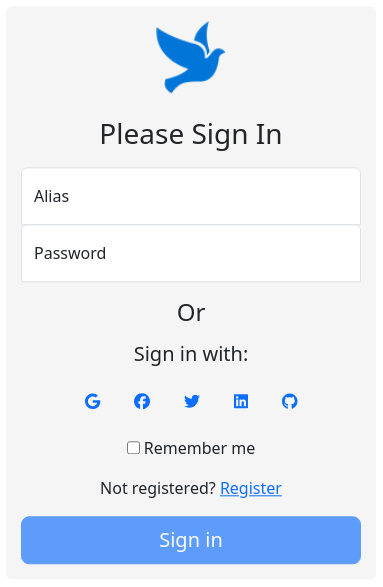
Test: Login Component › enables the sign in button if both alias and password fileds have text
In the field labelled "Alias": [191, 196] box x1=21 y1=167 x2=361 y2=225, type "a"
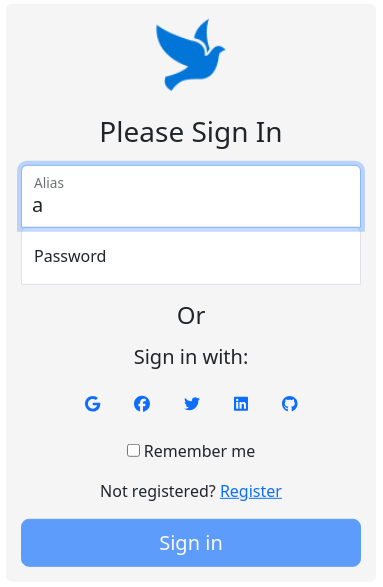
In the password field labelled "Password": [191, 255] box x1=21 y1=226 x2=361 y2=284, type "a"
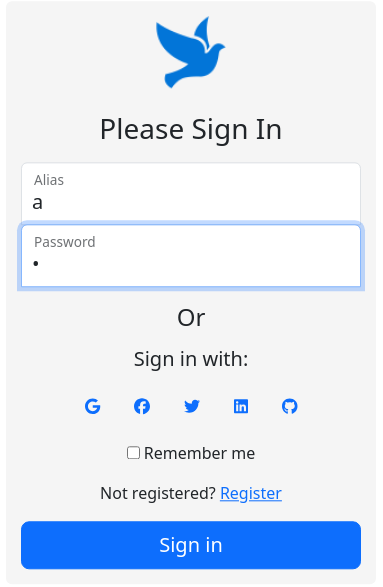
Now the button "Sign in" is enabled, box x1=21 y1=522 x2=361 y2=570
